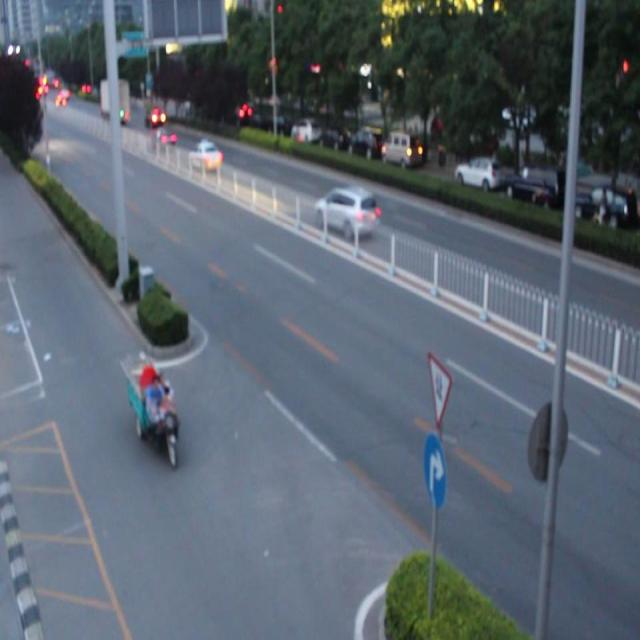car: (313, 183, 379, 239)
